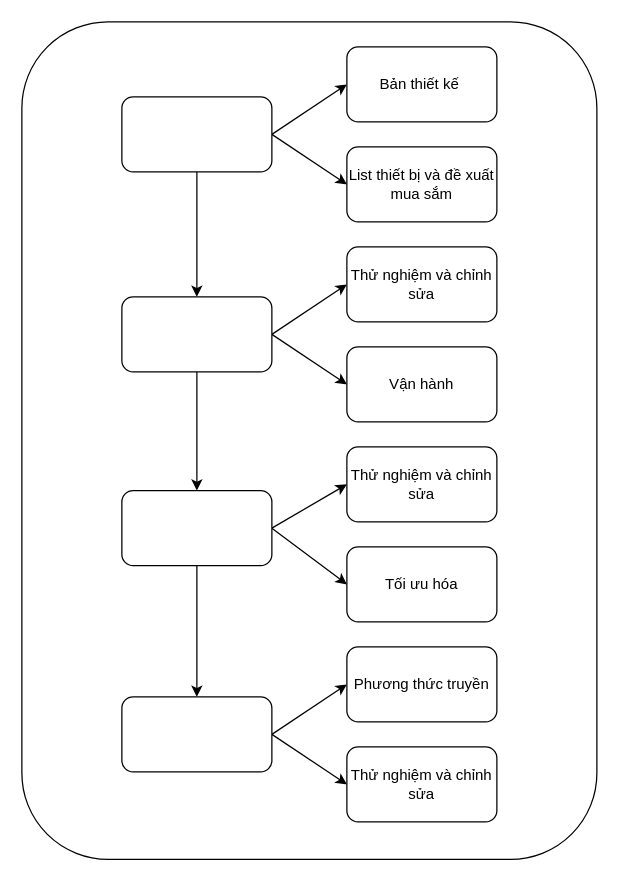
Some shapes in this 619 by 881 pixel diagram are drawn without their labels. The box of each missing label's shape, as (x1, y1, x2, y2) in pixels:
Triển khai lắp ráp các thiết bị phần cứng, các kết nối: (121, 296, 272, 372)
Tính chọn các thiết bị phần cứng: (121, 96, 272, 172)
Xây dựng chương trình xử lí ảnh theo yêu cầu: (121, 489, 272, 566)
Xử lí truyền dữ liệu: (121, 696, 272, 772)
